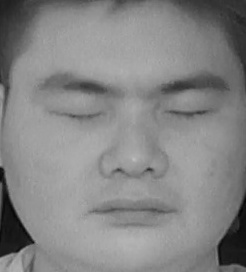blink: (53, 96, 104, 130), (165, 97, 209, 127)
mouth: (87, 184, 177, 233)
